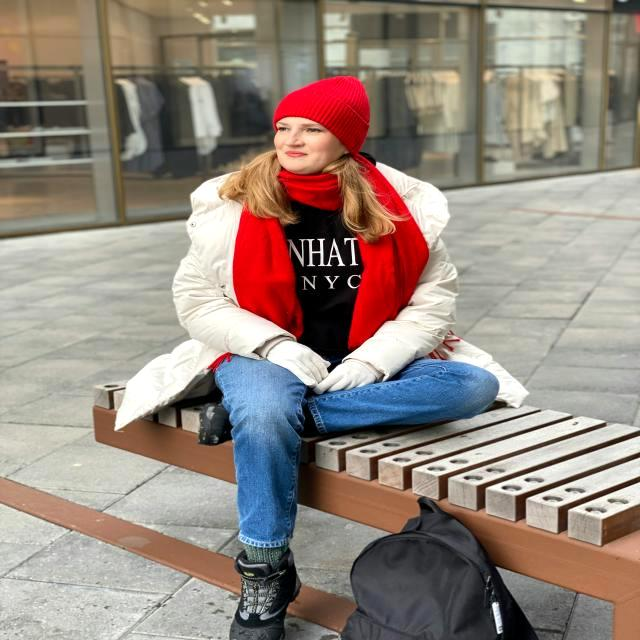no_hard_hat: (273, 77, 370, 158)
person: (107, 69, 502, 639)
